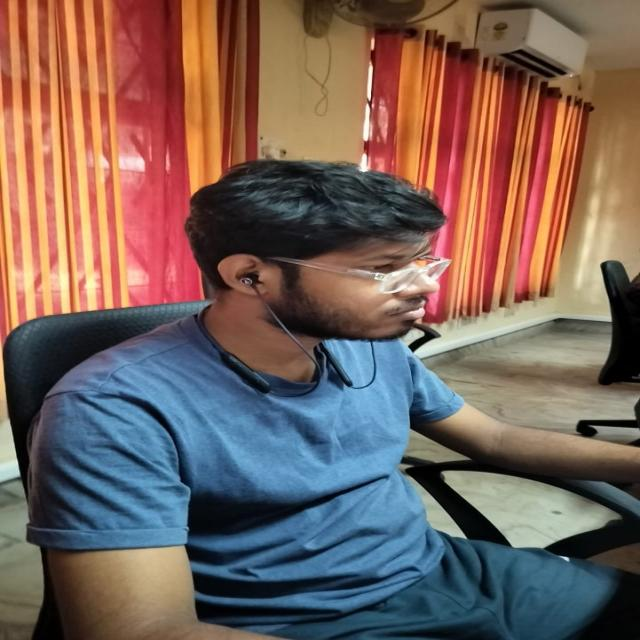person ahead at: (51, 157, 635, 640)
